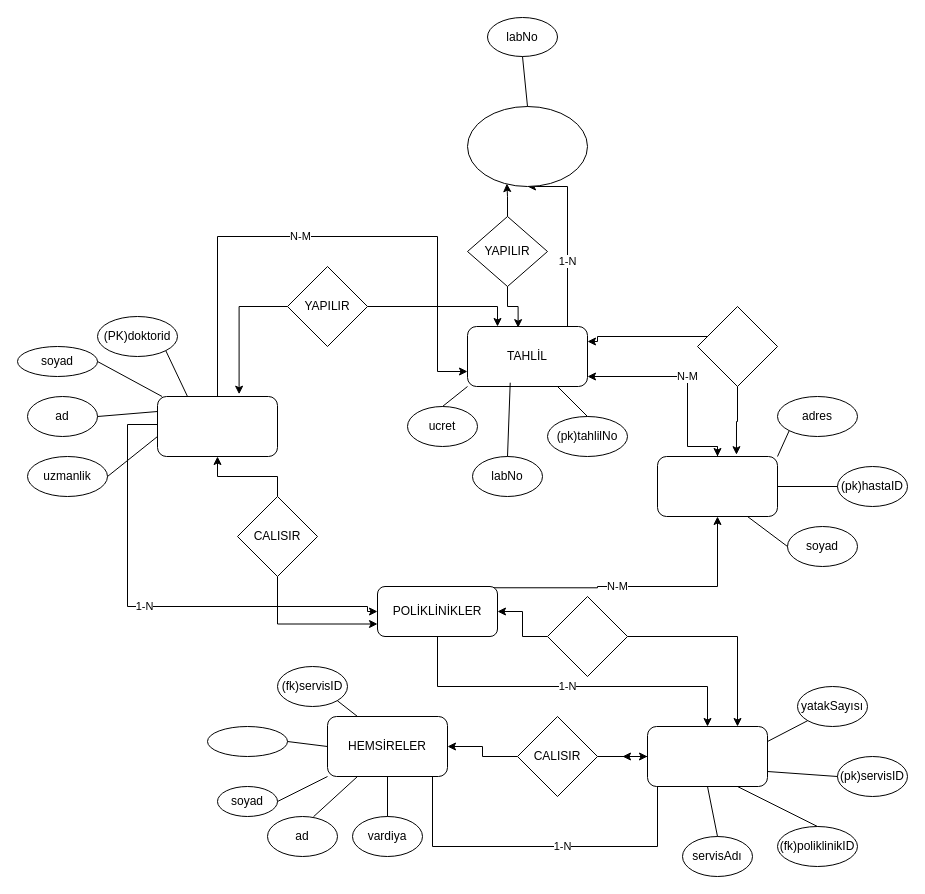
The diagram is 925 pixels wide and 894 high, and some of its shapes have lost their labels. Each missing label, with the box of its shape:
(pk)hemsireid: (206, 726, 288, 756)
AİTTİR: (546, 596, 628, 676)
DOKTORLAR: (156, 396, 278, 456)
HASTALAR: (656, 456, 778, 516)
LABORATUVAR: (466, 106, 588, 186)
SERVİS: (646, 726, 768, 786)
VERİLİR: (696, 306, 778, 386)
